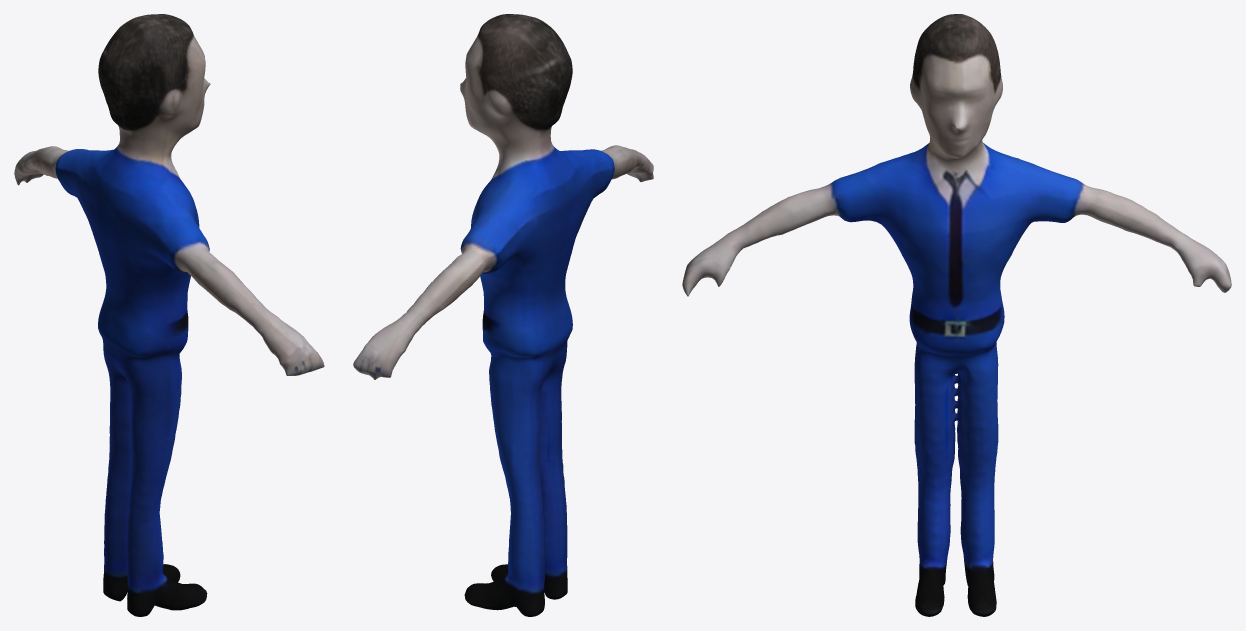
File: employee_working_draft.glb
3 renders of one model, left to right at view 1: azimuth 30°, elevation 25°; view 2: azimuth 150°, elevation 25°; view 3: azimuth 270°, elevation 25°, orthographic.
Visible parts, largest first — view 1: geometry_0; view 2: geometry_0; view 3: geometry_0.
Boxes of the visible parts, x1,y1,x2,y2 form: geometry_0: [14, 14, 324, 616]; geometry_0: [353, 14, 653, 616]; geometry_0: [682, 14, 1231, 616].
Bounding box in the file's own units: 0.1685 × 0.8735 × 0.7479.
1 material, 1 textured.
